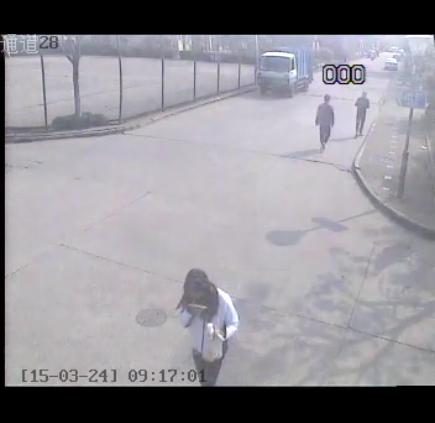person: (171, 249, 247, 390), (307, 81, 339, 157), (351, 84, 376, 145)
